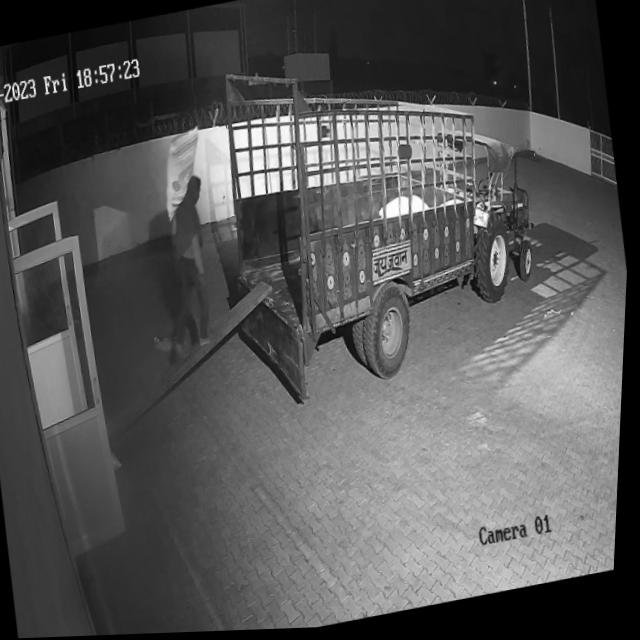sack: (156, 129, 212, 223)
